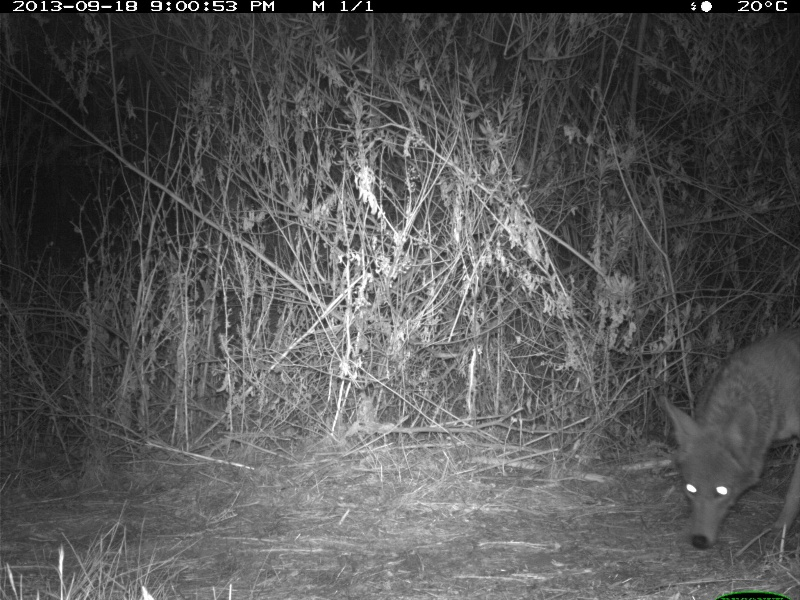coyote: (660, 327, 800, 557)
